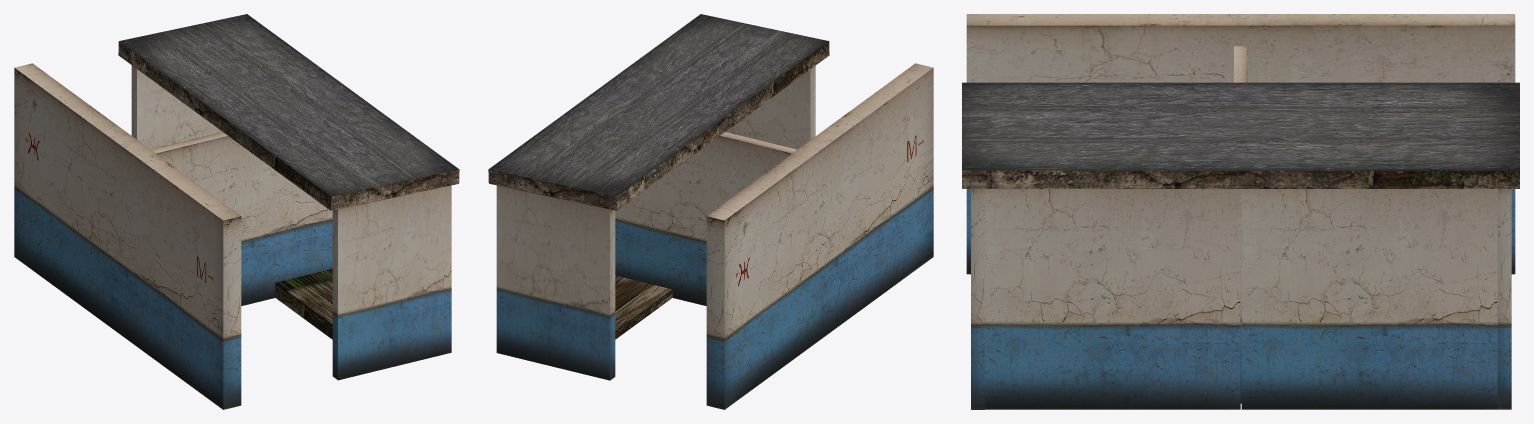
File: r254_tualet.FBX
3 views of the same model, side by side, from view 1: azimuth 30°, elevation 25°; view 2: azimuth 150°, elevation 25°; view 3: azimuth 270°, elevation 25° (orthographic). The views are drawn at different scales.
Parts seen in each view (by area): view 1: r254_tualet; view 2: r254_tualet; view 3: r254_tualet.
Part boxes in pixels (x1,y1,x2,y2): r254_tualet: (14, 14, 459, 409); r254_tualet: (488, 14, 933, 409); r254_tualet: (962, 14, 1519, 409).
Size of the model in its own units: 259 by 407 by 200.
